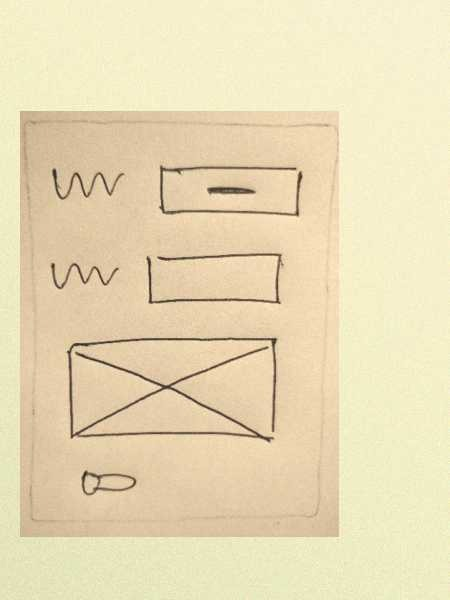button: (153, 156, 305, 225)
image: (60, 333, 281, 447)
switch: (71, 462, 144, 500)
text: (46, 254, 124, 296), (46, 164, 128, 202)
text_input: (141, 247, 286, 310)
